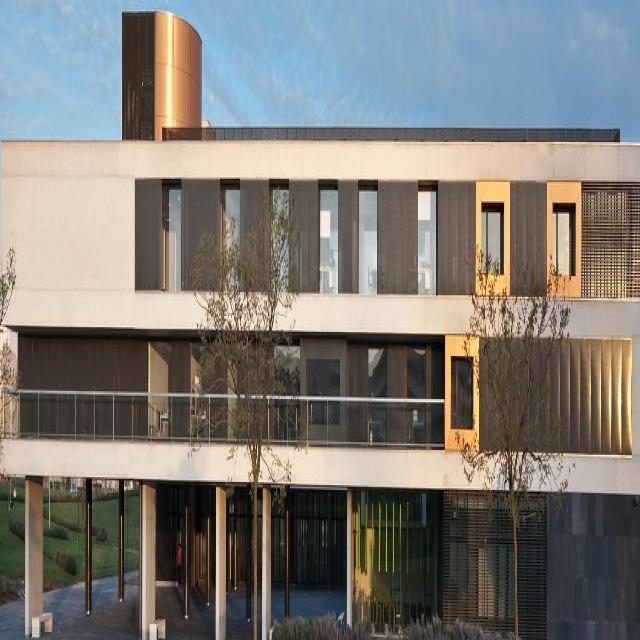railing: (1, 397, 443, 454)
window: (289, 491, 347, 589), (270, 181, 289, 298), (358, 189, 378, 299), (320, 189, 338, 295), (418, 188, 436, 292), (166, 192, 182, 295), (223, 178, 238, 286), (481, 213, 503, 275), (451, 361, 472, 424), (552, 214, 572, 273), (307, 360, 340, 392), (367, 346, 388, 396), (406, 351, 425, 394)
